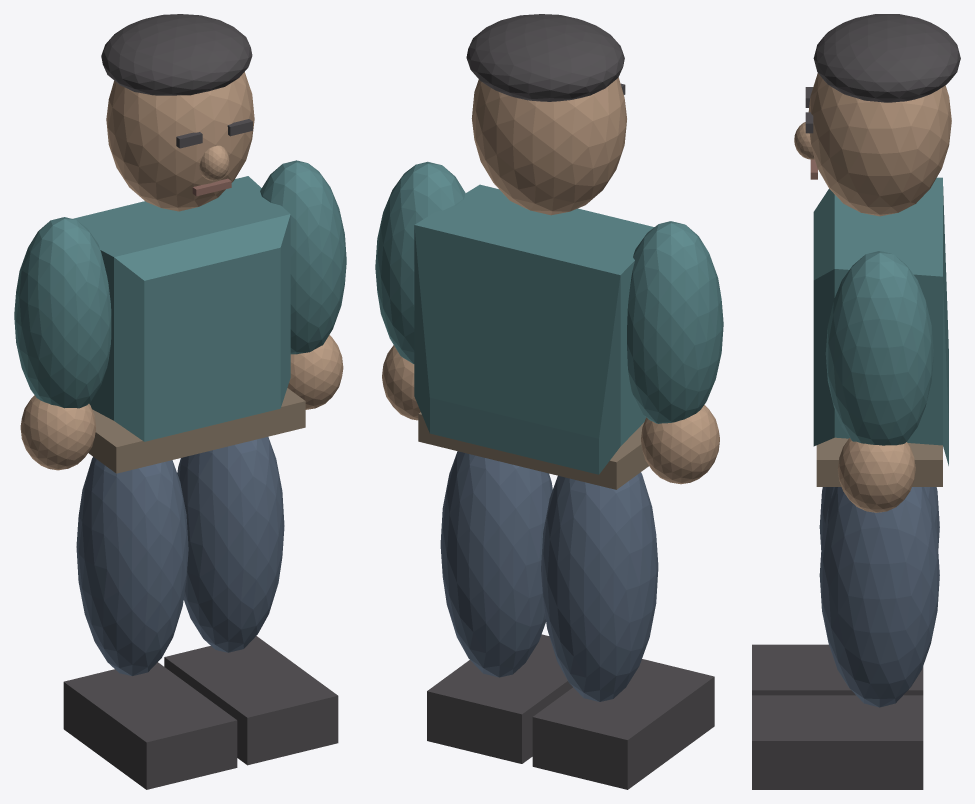
Rendered from citizen.glb.
3 renders of one model, left to right at view 1: azimuth 30°, elevation 25°; view 2: azimuth 150°, elevation 25°; view 3: azimuth 270°, elevation 25°, orthographic. The views are drawn at different scales.
Visible parts, largest first — view 1: citizen_0, citizen_9, citizen_13, citizen_10, citizen_7, citizen_1, citizen_14, citizen_11, citizen_2, citizen_15, citizen_8, citizen_12 (+1 smaller); view 2: citizen_0, citizen_9, citizen_13, citizen_7, citizen_10, citizen_1, citizen_2, citizen_14, citizen_11, citizen_8, citizen_15, citizen_12; view 3: citizen_13, citizen_11, citizen_14, citizen_0, citizen_1, citizen_2, citizen_10, citizen_12, citizen_15, citizen_9, citizen_5.
Part boxes in pixels (x1,y1,x2,y2): citizen_0: (72,176,290,441); citizen_9: (76,457,188,675); citizen_13: (177,437,284,652); citizen_10: (63,662,237,789); citizen_7: (14,217,111,408); citizen_1: (106,72,254,211); citizen_14: (164,636,338,765); citizen_11: (260,160,346,354); citizen_2: (101,14,252,95); citizen_15: (88,388,305,473); citizen_8: (20,395,95,470); citizen_12: (287,335,343,409); citizen_0: (414,184,654,474); citizen_9: (541,472,658,701); citizen_13: (440,451,552,677); citizen_7: (627,221,723,423); citizen_10: (532,659,714,789); citizen_1: (471,77,626,215); citizen_2: (466,14,624,101); citizen_14: (427,634,572,763); citizen_11: (375,161,465,363); citizen_8: (641,405,719,484); citizen_15: (418,412,648,489); citizen_12: (382,345,420,420); citizen_13: (819,487,939,707); citizen_11: (825,251,933,445); citizen_14: (752,695,923,789); citizen_0: (813,177,948,465); citizen_1: (808,73,951,216); citizen_2: (813,14,960,102); citizen_10: (752,644,923,695); citizen_12: (837,438,915,512); citizen_15: (816,437,942,486); citizen_9: (819,487,939,549); citizen_5: (794,122,814,159).
Size of the model in its own units: 1.26 by 2.62 by 0.695.
